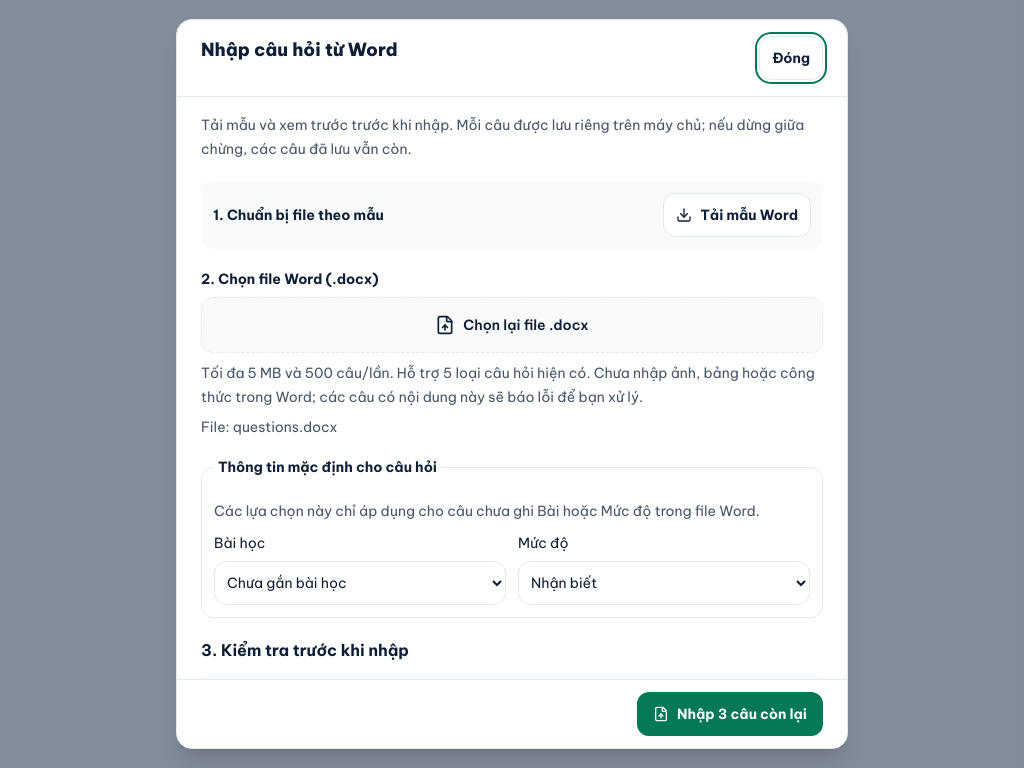
Scenario: Question Word import confirmation › confirms before discarding a parsed preview, and Continue keeps it without POST
Earlier steps of the test are not shown.
Later steps or results of the test are not shown.
Click the button with aria-label "Đóng hộp thoại".
click(791, 58)  # box [759,36,823,80]
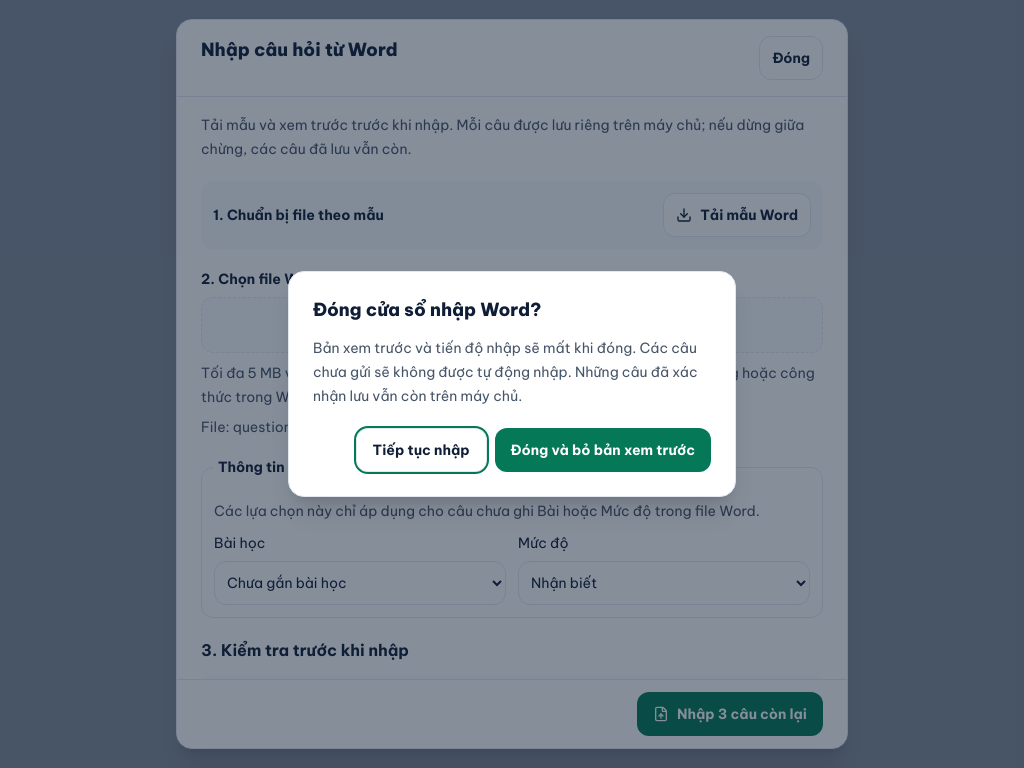
Expected: the dialog that starts with "Đóng cửa sổ nhập Word?" shows "Bản xem trước và tiến độ nhập sẽ mất", [313,339,698,405]
Expected: the dialog that starts with "Đóng cửa sổ nhập Word?" shows "Các câu chưa gửi sẽ không được tự động nhập", [313,339,698,405]
Expected: the button "Tiếp tục nhập" is shown
Click the button "Tiếp tục nhập".
click(421, 450)  # box [356,428,487,472]
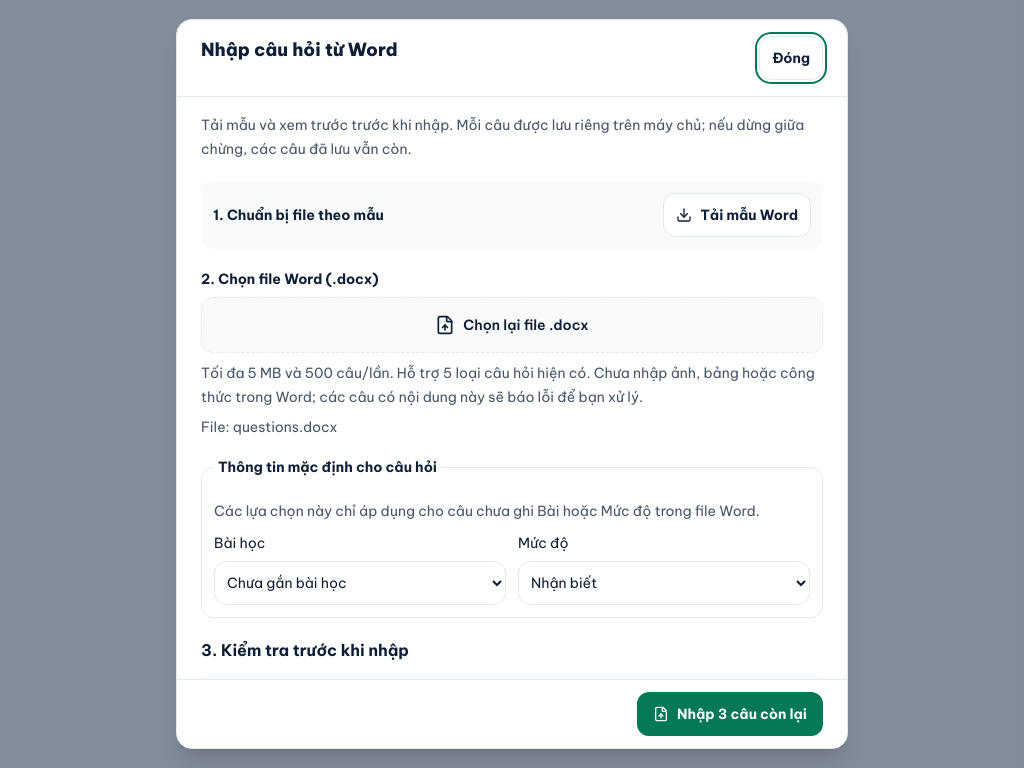
Expected: the dialog is gone
